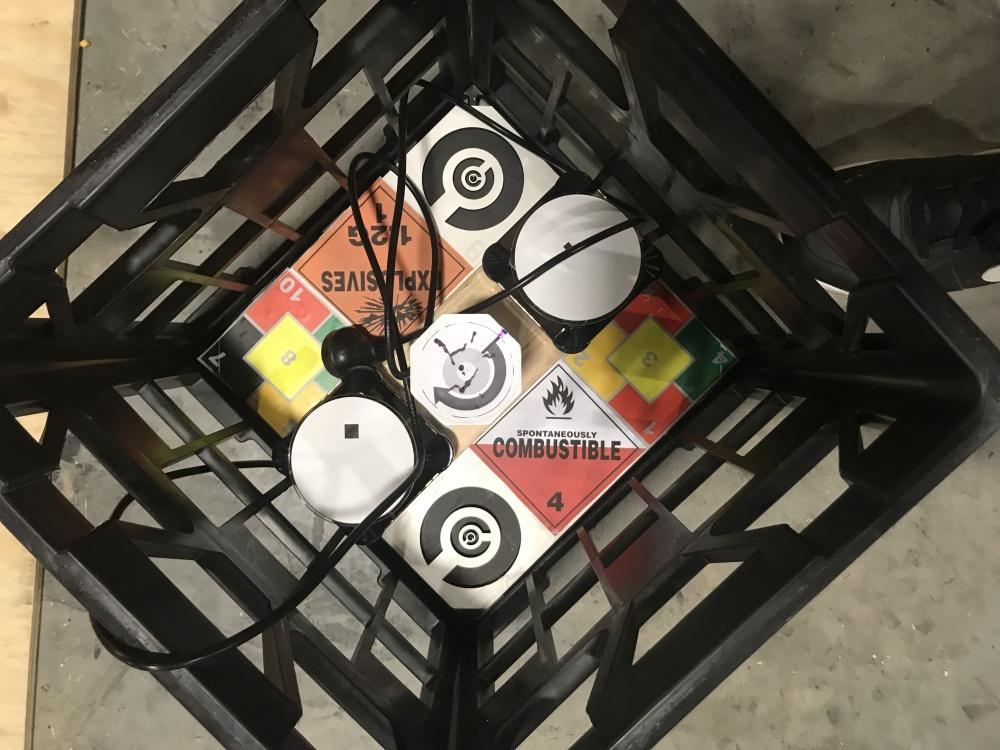explosive: (300, 177, 472, 348)
spontaneously-combustible: (471, 359, 646, 534)
